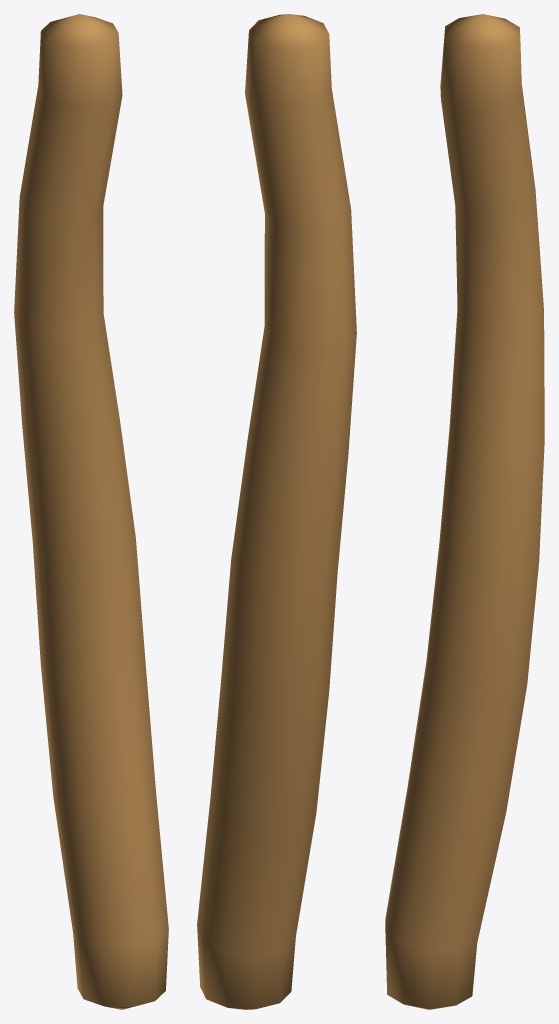
Rendered from tibia_T3_left_leg.obj.
The picture shows the model from 3 angles, left to right: view 1: azimuth 30°, elevation 25°; view 2: azimuth 210°, elevation 25°; view 3: azimuth 270°, elevation 25°; orthographic projection. The views are drawn at different scales.
Size of the model in its own units: 0.00898 by 0.0777 by 0.0114.
